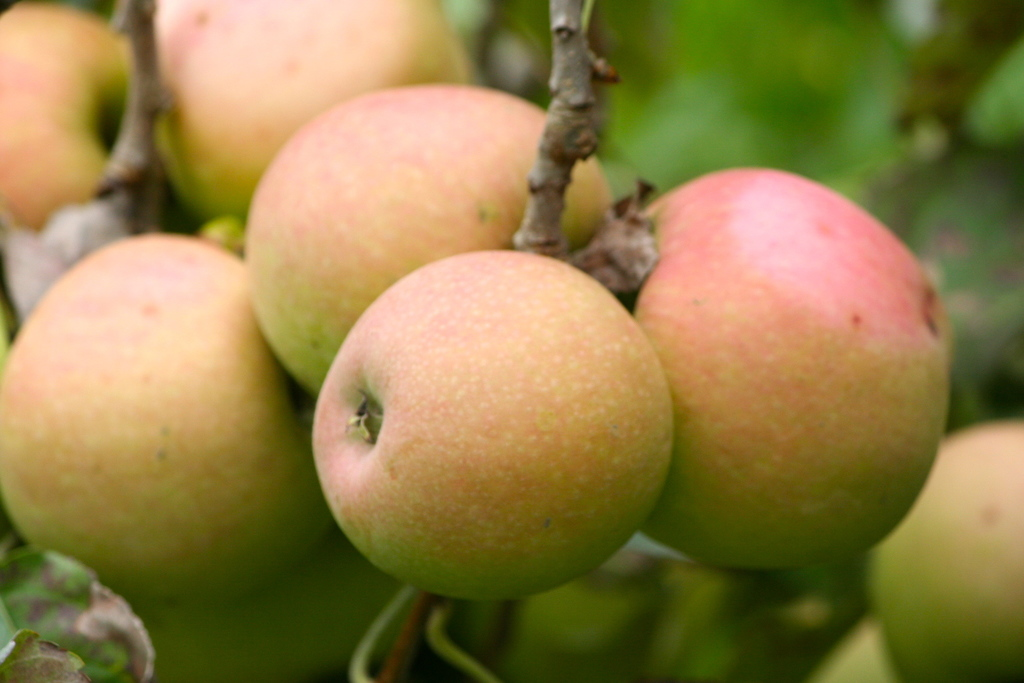Apple: (0, 0, 1023, 682), (316, 264, 680, 600)
